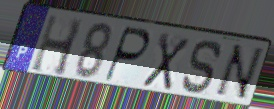8: (72, 21, 114, 81)
H: (28, 13, 86, 79)
N: (211, 43, 267, 103)
P: (101, 25, 152, 85)
S: (180, 38, 225, 97)
X: (139, 31, 192, 93)
